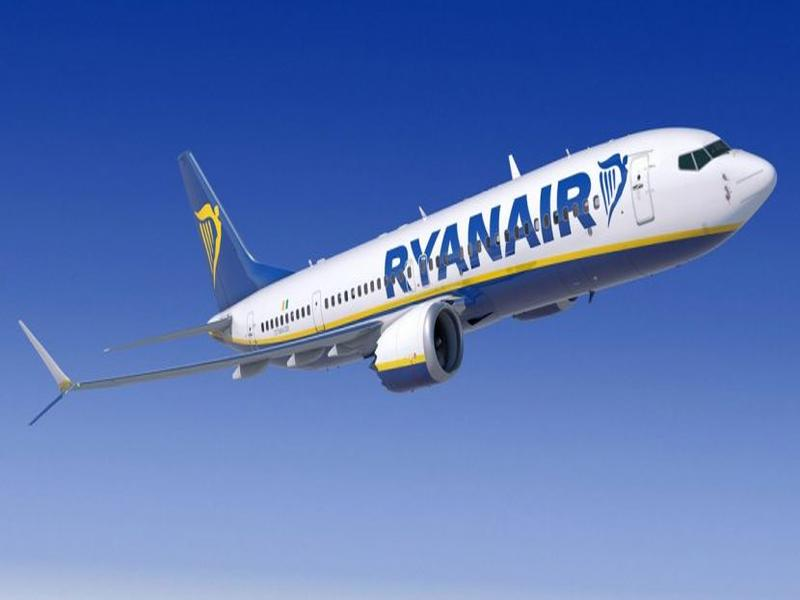737-MAX: (9, 130, 777, 444)
